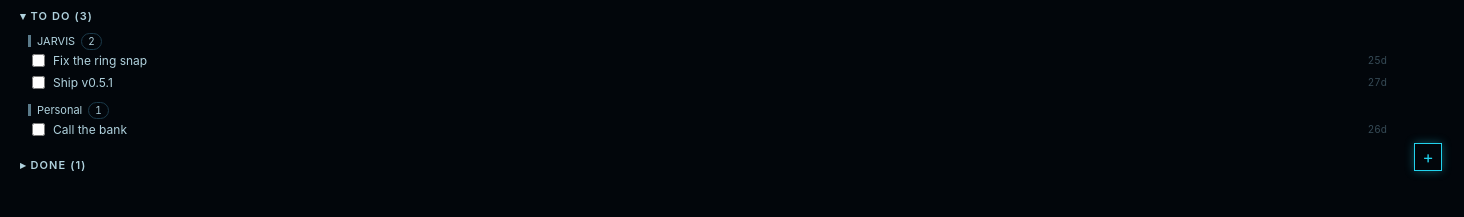
Test case: TodoPanel › shows why a tick was refused
This screenshot has width=1464, height=217.
Click the checkbox named "Done: Fix the ring snap" at (38, 60), box [32,54,45,67]
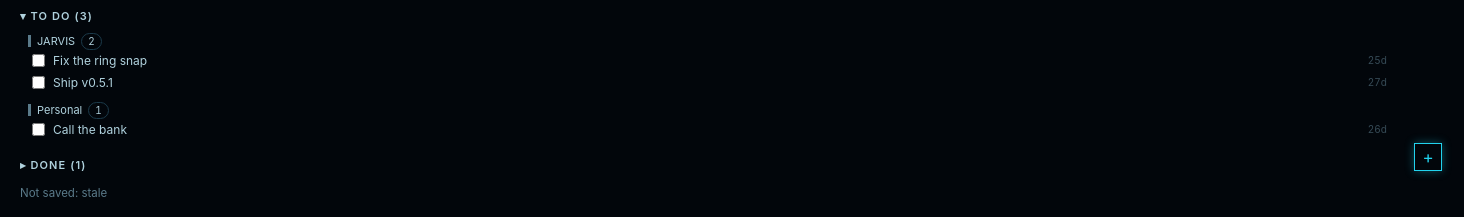
Expected: the message with test id "todo-error" reads "Not saved: stale", [20,186,107,200]
